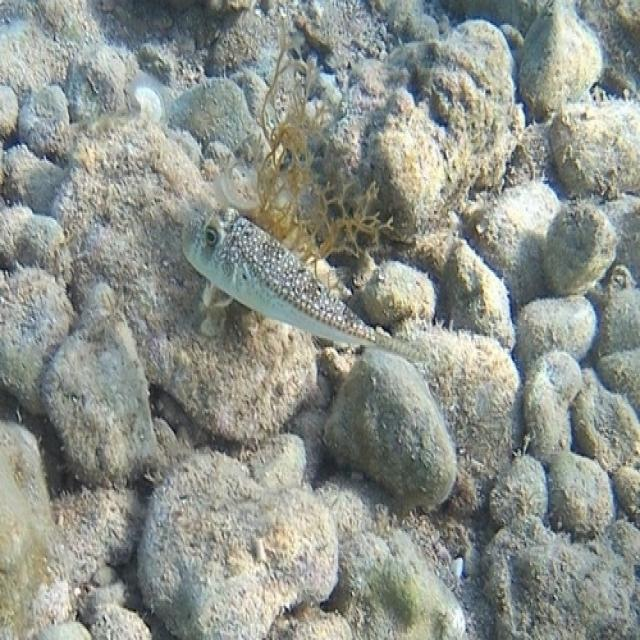Balik: (184, 208, 415, 359)
